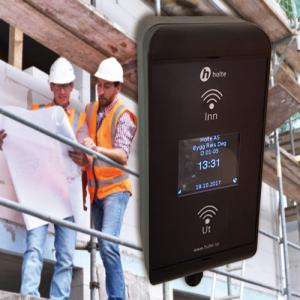white: (50, 58, 76, 108), (96, 59, 123, 105)
